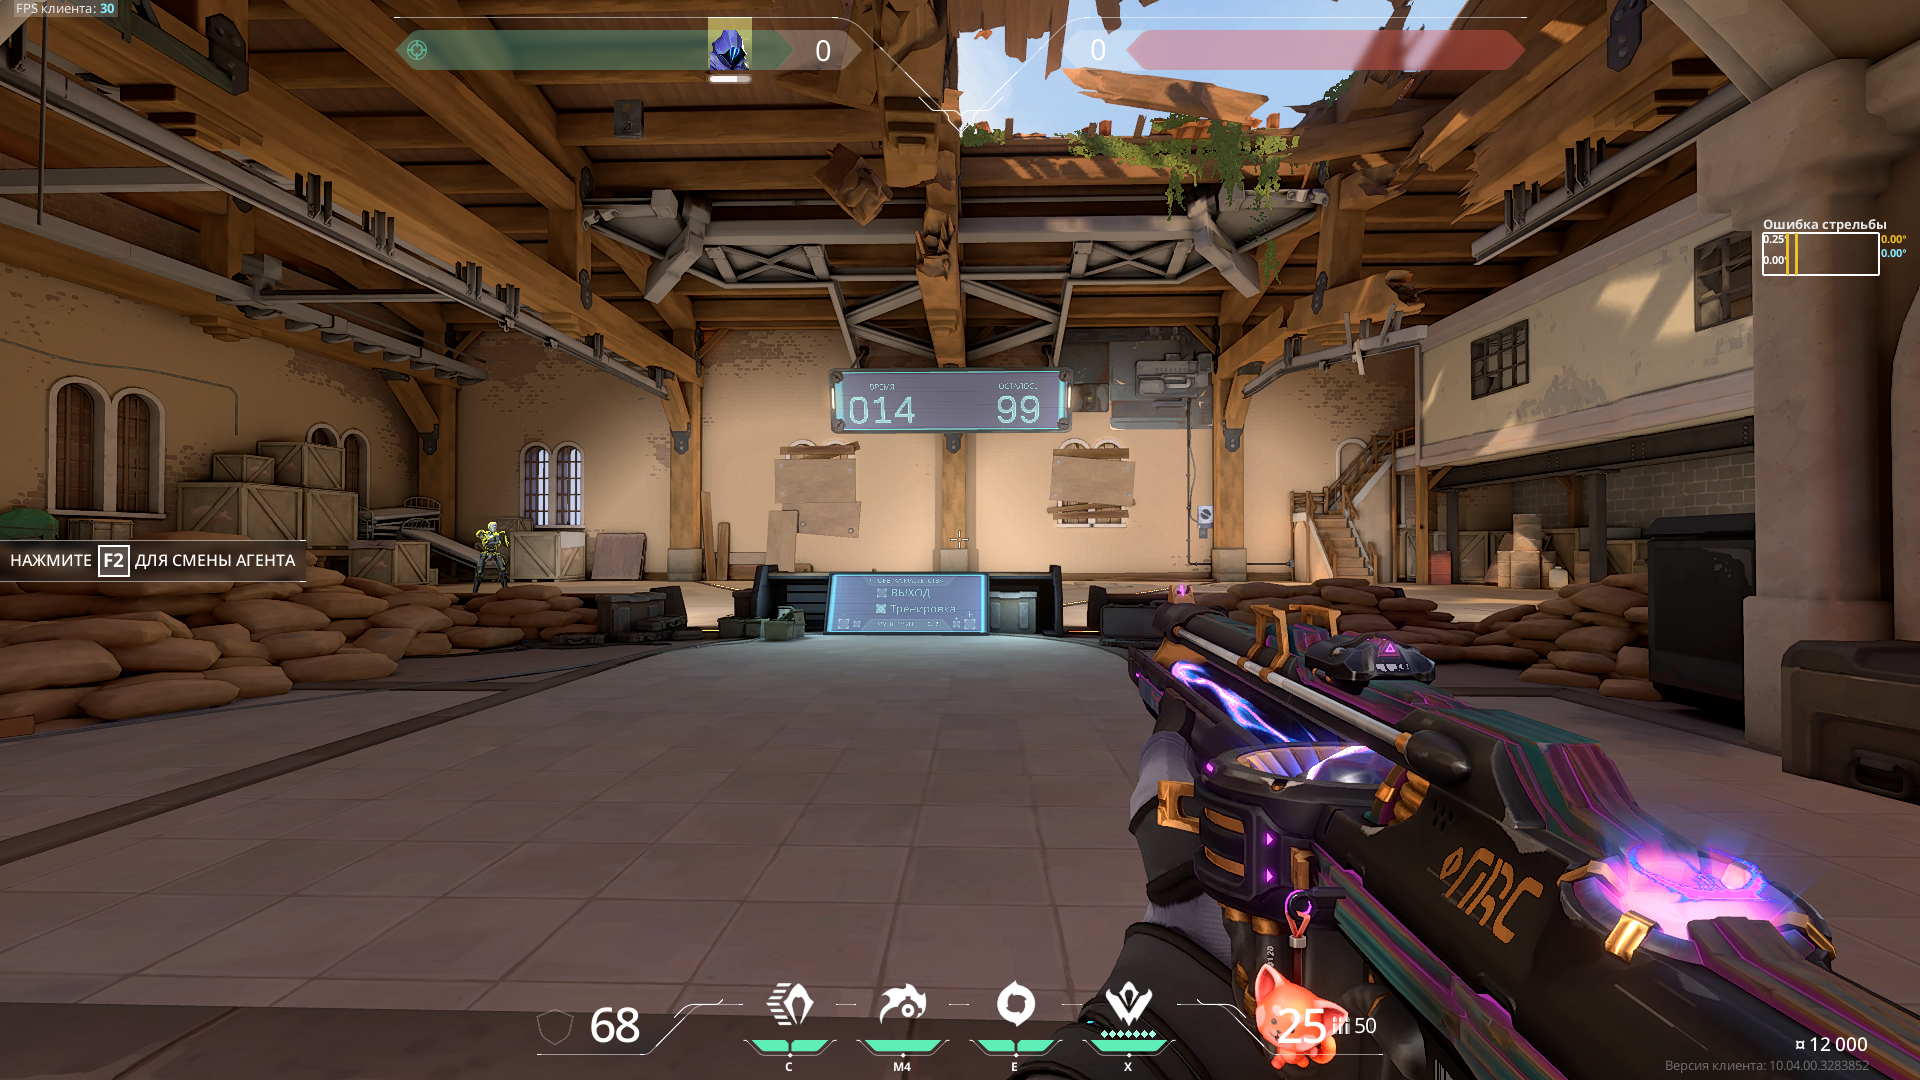head: (488, 522, 497, 532)
